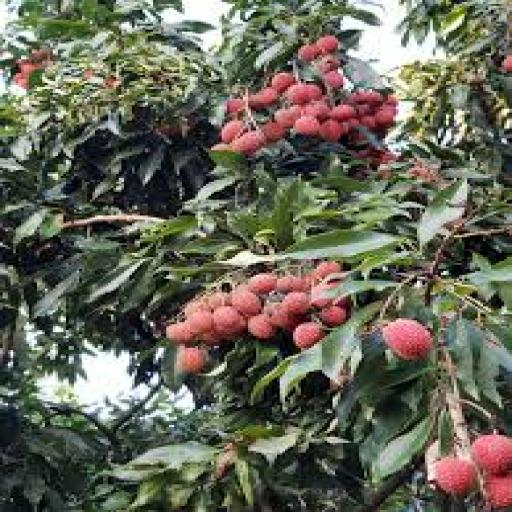lychee: (383, 319, 432, 359), (436, 457, 477, 498), (473, 435, 511, 476), (230, 131, 266, 156), (486, 475, 511, 510), (214, 307, 245, 334), (230, 291, 263, 316), (293, 323, 324, 349), (283, 291, 311, 316), (177, 348, 205, 373), (188, 311, 213, 336), (249, 315, 274, 340), (317, 307, 348, 326), (249, 273, 277, 294), (275, 275, 308, 292), (293, 115, 319, 136), (222, 121, 245, 144), (320, 119, 343, 142), (167, 323, 192, 343), (286, 84, 311, 104), (262, 121, 285, 142), (304, 101, 329, 120), (275, 109, 300, 128), (315, 56, 340, 75), (270, 74, 295, 92), (330, 105, 356, 122), (299, 44, 321, 61), (322, 72, 345, 88), (317, 36, 337, 53), (304, 84, 324, 100), (227, 99, 245, 114), (502, 56, 511, 73)
